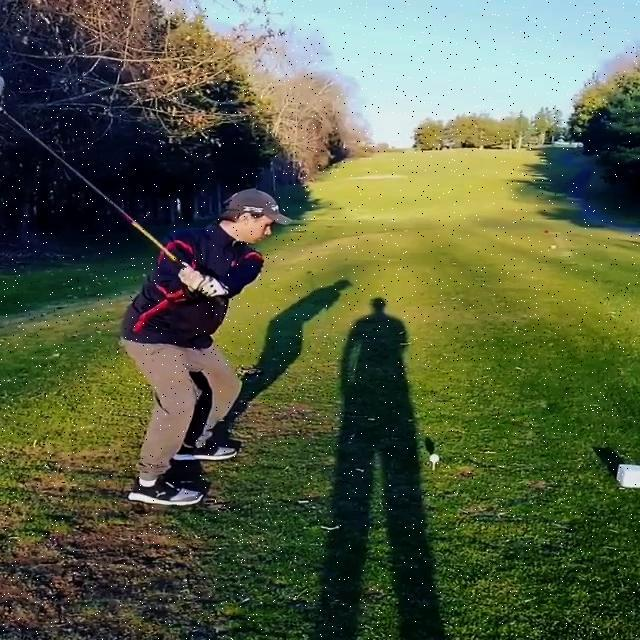GolfBall: (429, 453, 442, 464)
